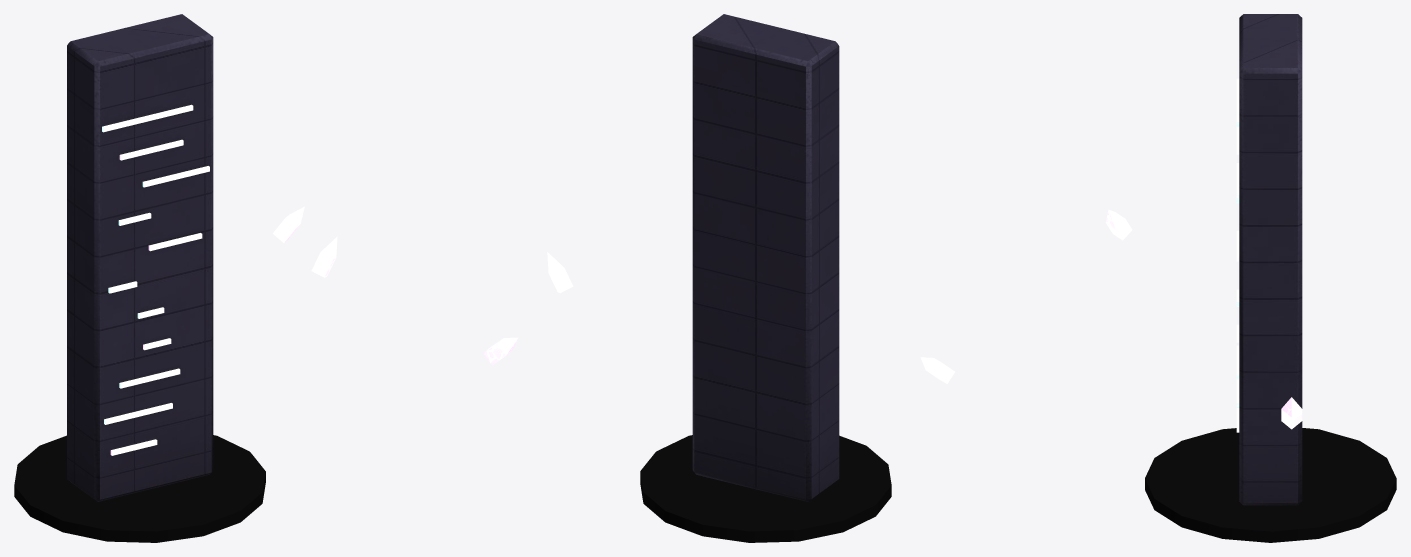
The model's file is monolito_dados.glb.
3 renders of one model, left to right at view 1: azimuth 30°, elevation 25°; view 2: azimuth 150°, elevation 25°; view 3: azimuth 270°, elevation 25°, orthographic.
Parts seen in each view (by area): view 1: monolito_dados; view 2: monolito_dados; view 3: monolito_dados.
Boxes of the visible parts, x1=… form: monolito_dados: x1=14, y1=14, x2=518, y2=542; monolito_dados: x1=547, y1=14, x2=891, y2=542; monolito_dados: x1=920, y1=14, x2=1396, y2=542.
Size of the model in its own units: 3.47 by 4.72 by 4.54.
1 material, 1 textured.
